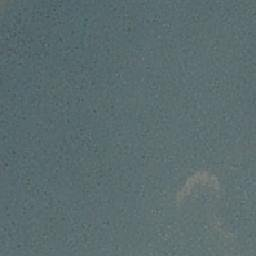debris: (190, 168, 214, 183), (178, 182, 193, 199)
